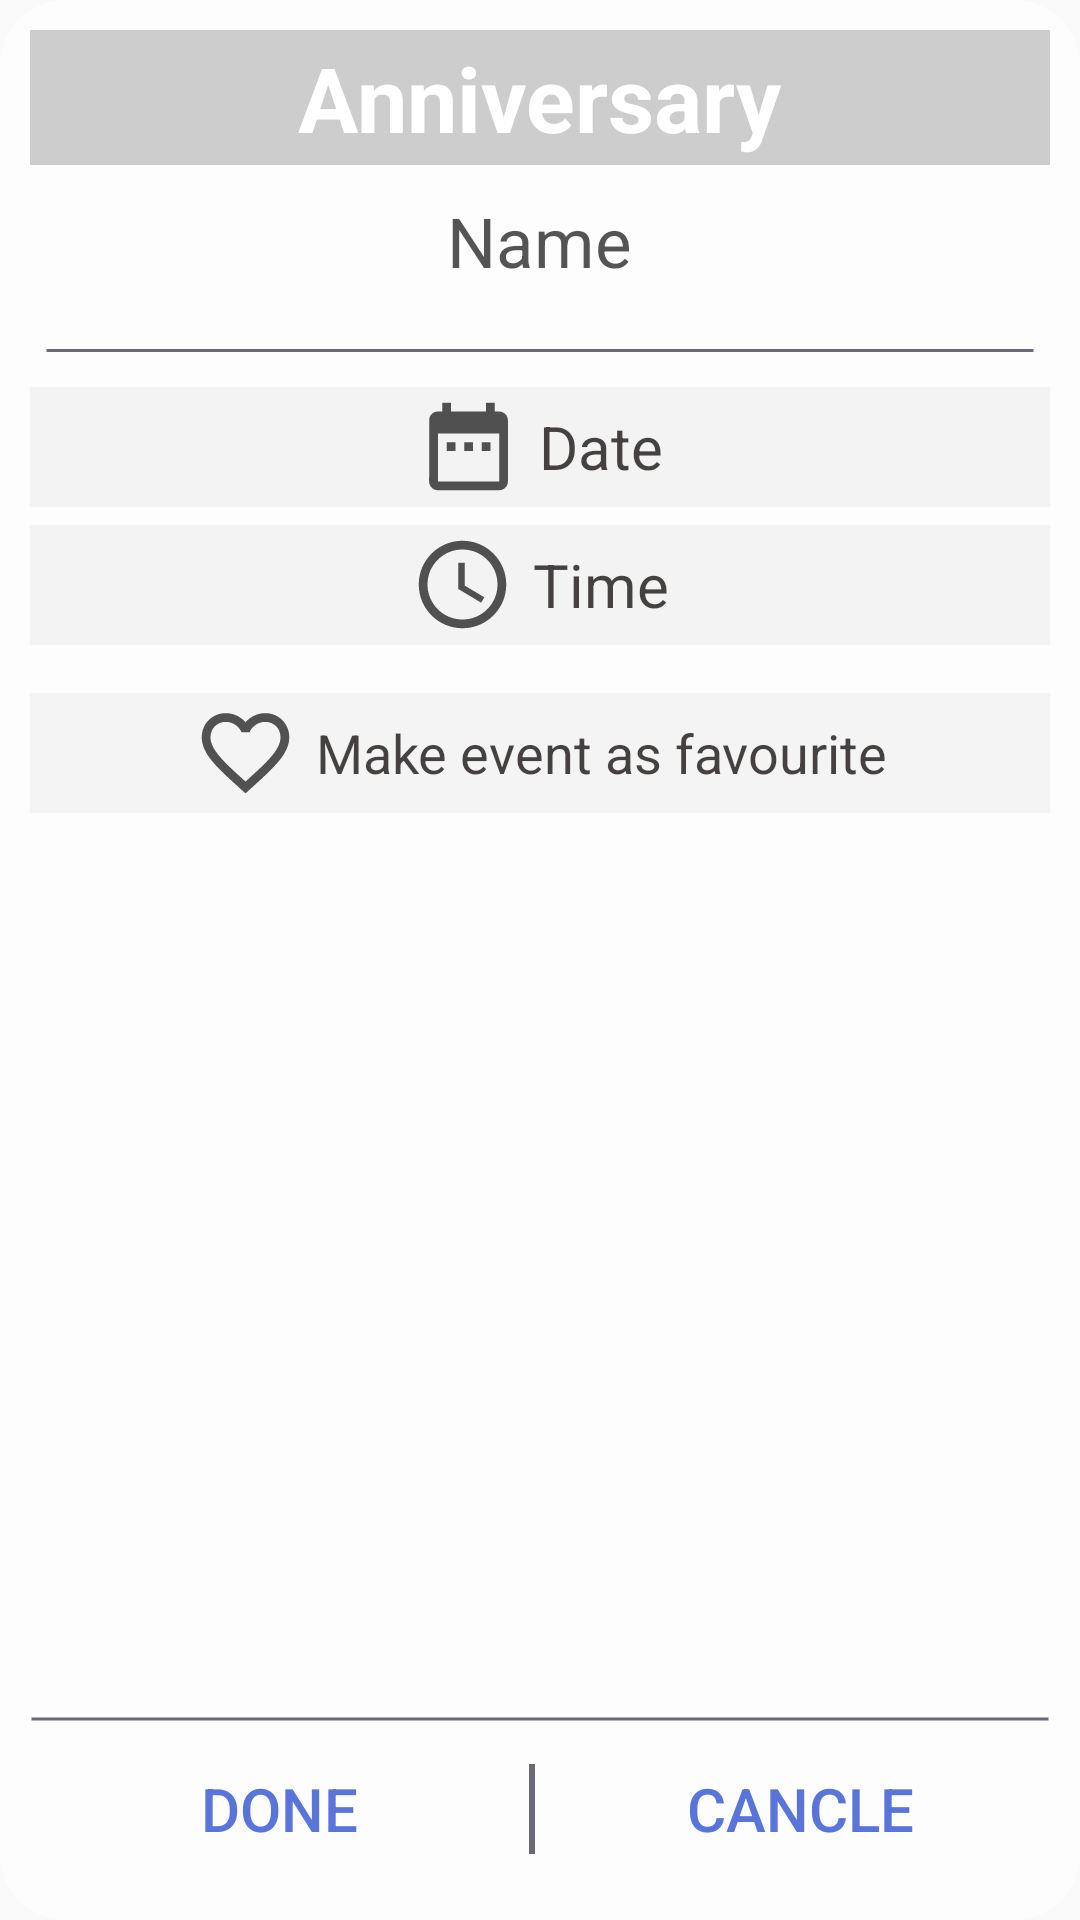

Named icons in this screenshot (1080 × 1920) and their bounding boxes, (x1, y1, x2, y2):
calicon: (429, 402, 508, 491)
clockicon: (418, 540, 507, 629)
favicon: (201, 713, 290, 793)
